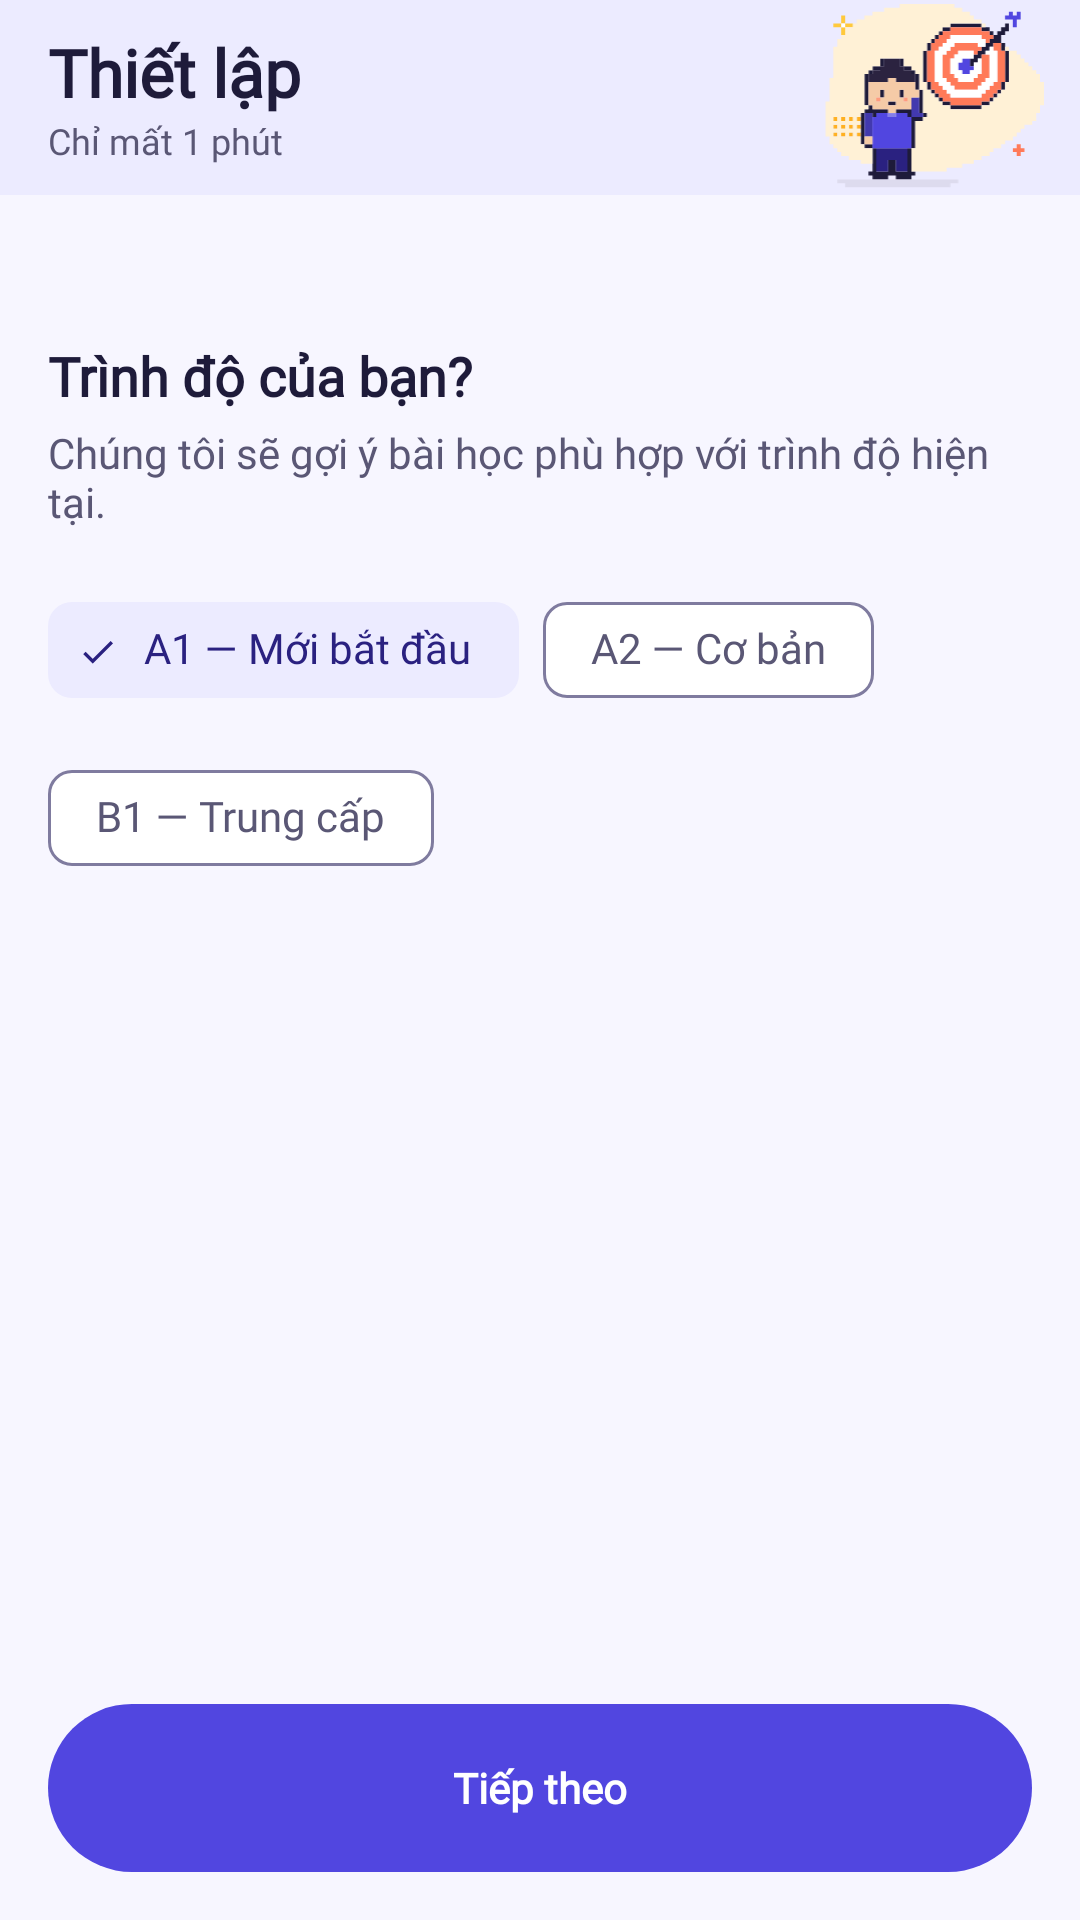

Where to tap for icons on this 1080 × 1920 app screen, as (x,y):
ill onboarding goal: (935,92)
